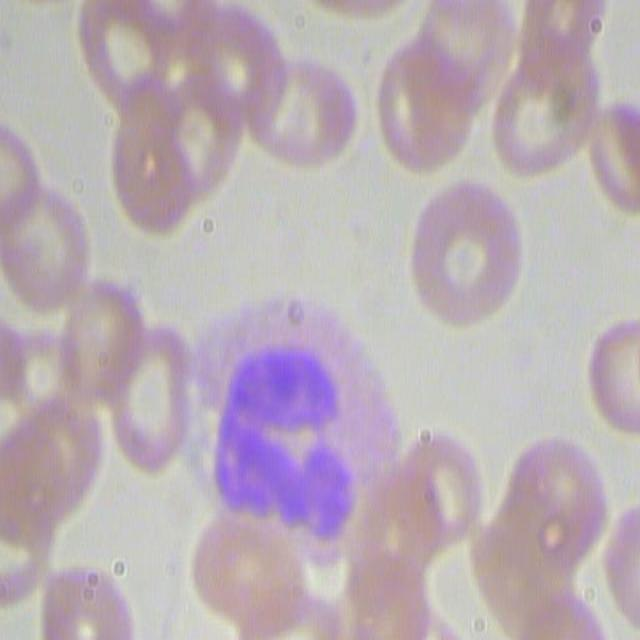RBC: (105, 77, 234, 236), (404, 176, 523, 330), (164, 0, 289, 123), (102, 329, 202, 482), (234, 53, 359, 175), (508, 430, 609, 580), (371, 38, 482, 173), (489, 52, 601, 183), (386, 404, 477, 555), (55, 275, 151, 402), (190, 506, 310, 606), (78, 0, 182, 111), (2, 188, 90, 314), (416, 0, 521, 95), (352, 551, 458, 640), (8, 406, 105, 499), (6, 312, 77, 429), (33, 566, 139, 640), (587, 316, 640, 440), (588, 96, 640, 219), (0, 136, 47, 242)
WBC: (202, 291, 398, 555)
